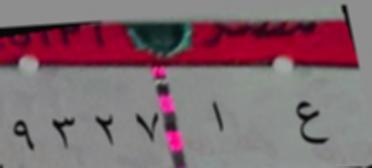2: (93, 110, 121, 150)
3: (42, 110, 81, 152)
7: (132, 104, 162, 143)
9: (12, 115, 38, 156)
ain: (291, 98, 328, 154)
alif: (202, 94, 236, 136)
